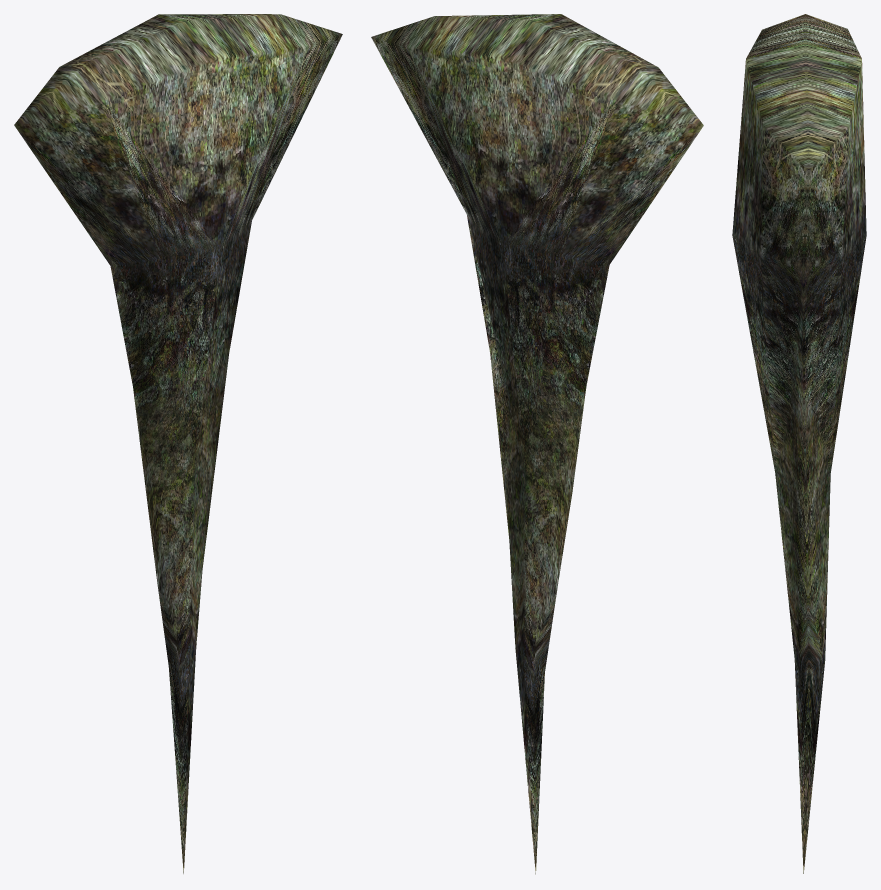
File: thm_all_cave_stalagtite_damprock_c1_l1.fbx
The picture shows the model from 3 angles, left to right: view 1: azimuth 30°, elevation 25°; view 2: azimuth 150°, elevation 25°; view 3: azimuth 270°, elevation 25°; orthographic projection. The views are drawn at different scales.
Parts seen in each view (by area): view 1: mesh_node; view 2: mesh_node; view 3: mesh_node.
Part boxes in pixels (box(x1,y1,x2,y2)): mesh_node: box(14, 14, 342, 873); mesh_node: box(371, 14, 703, 874); mesh_node: box(732, 14, 866, 873).
Bounding box in the file's own units: 2.38 × 5.86 × 0.8559.
